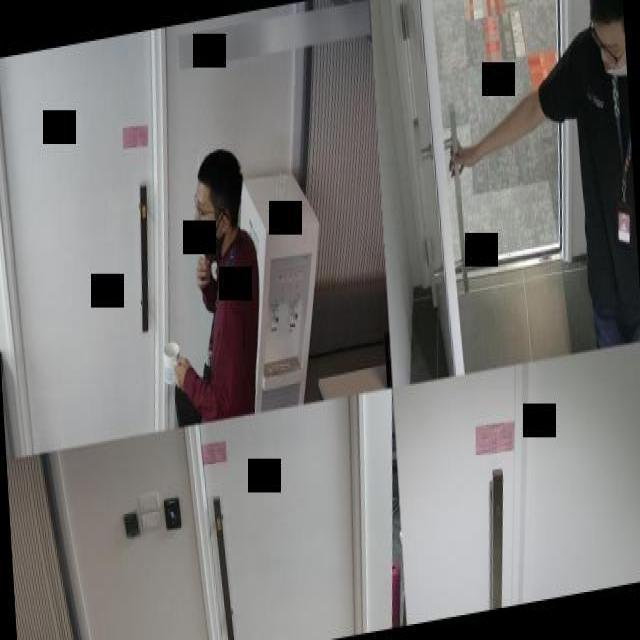hairnet: (593, 16, 630, 78), (192, 190, 223, 263)
